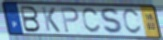B: (19, 5, 42, 33)
C: (81, 7, 102, 35), (122, 8, 143, 36)
K: (41, 6, 62, 34)
P: (60, 6, 81, 34)
S: (100, 7, 126, 36)
